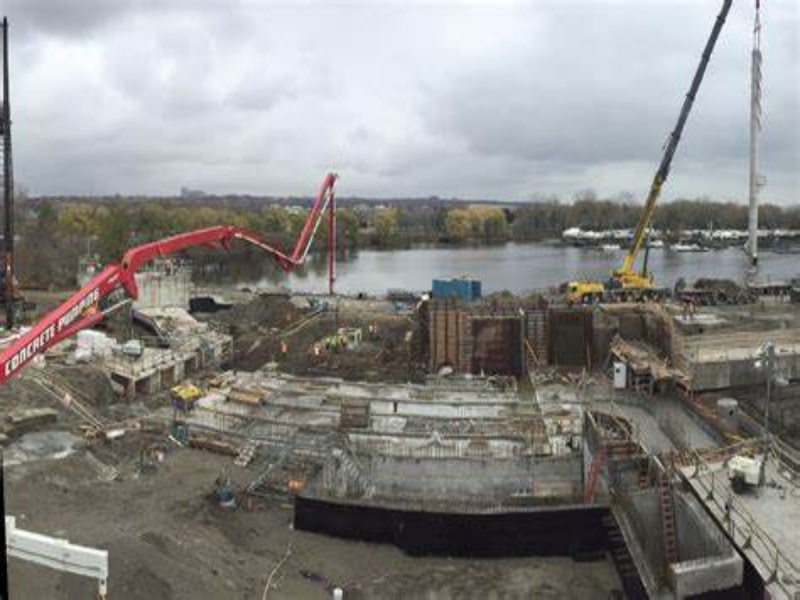crane: (558, 1, 737, 310)
pump truck: (1, 168, 344, 384)
